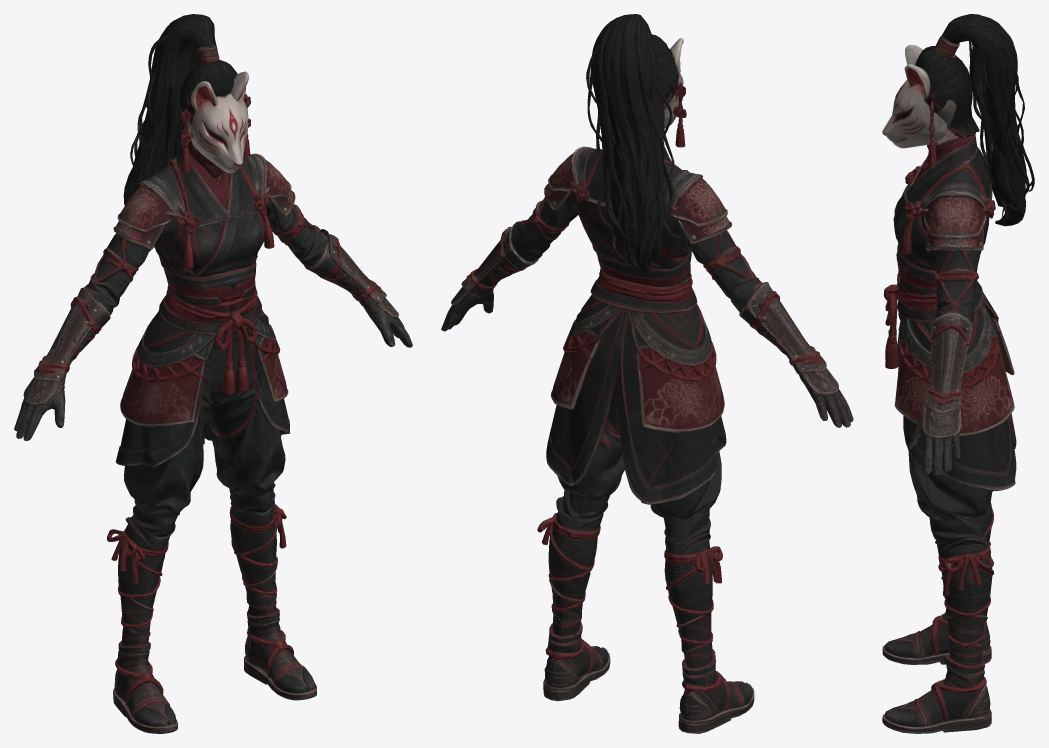
The model's file is forest_kitsune_image.glb.
The picture shows the model from 3 angles, left to right: view 1: azimuth 30°, elevation 25°; view 2: azimuth 150°, elevation 25°; view 3: azimuth 270°, elevation 25°; orthographic projection. The views are drawn at different scales.
Size of the model in its own units: 1.17 by 1.9 by 0.3901.
1 material, 1 textured.
